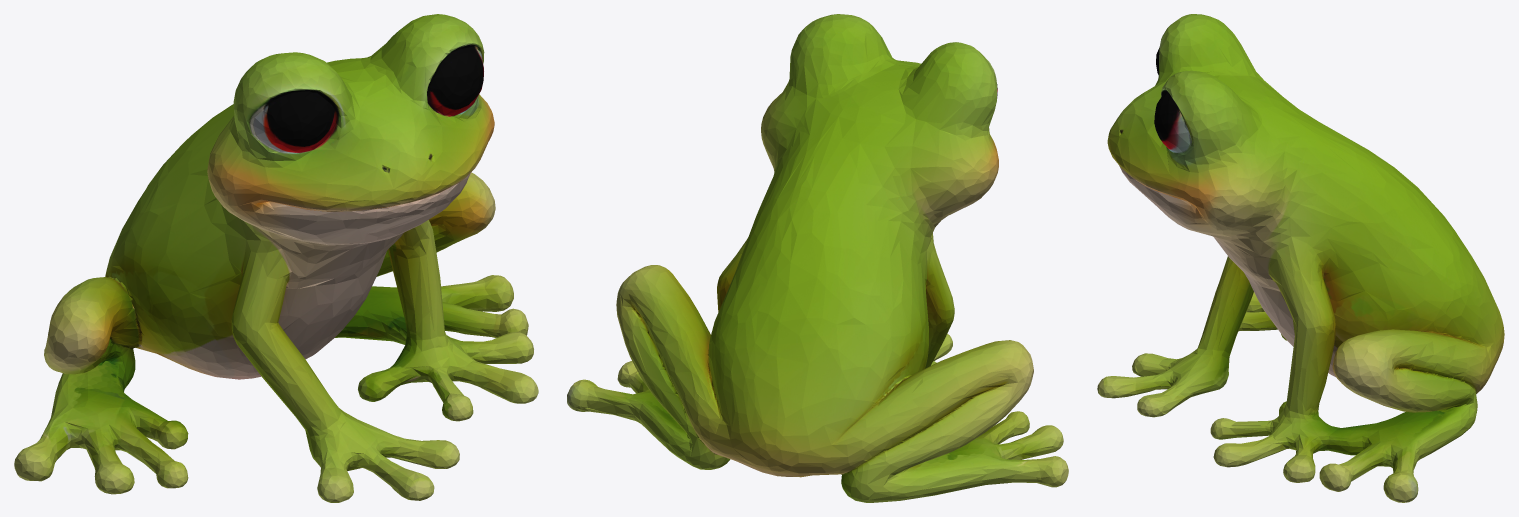
Rendered from w_frog.glb.
The picture shows the model from 3 angles, left to right: view 1: azimuth 30°, elevation 25°; view 2: azimuth 150°, elevation 25°; view 3: azimuth 270°, elevation 25°; orthographic projection. The views are drawn at different scales.
Visible parts, largest first — view 1: textured_mesh.obj; view 2: textured_mesh.obj; view 3: textured_mesh.obj.
Boxes of the visible parts, bbox=[...] form: textured_mesh.obj: bbox=[14, 14, 538, 502]; textured_mesh.obj: bbox=[567, 14, 1068, 502]; textured_mesh.obj: bbox=[1097, 14, 1504, 502].
Bounding box in the file's own units: 1.99 × 1.5 × 1.56.
Materials: 1 (1 with a texture image).
